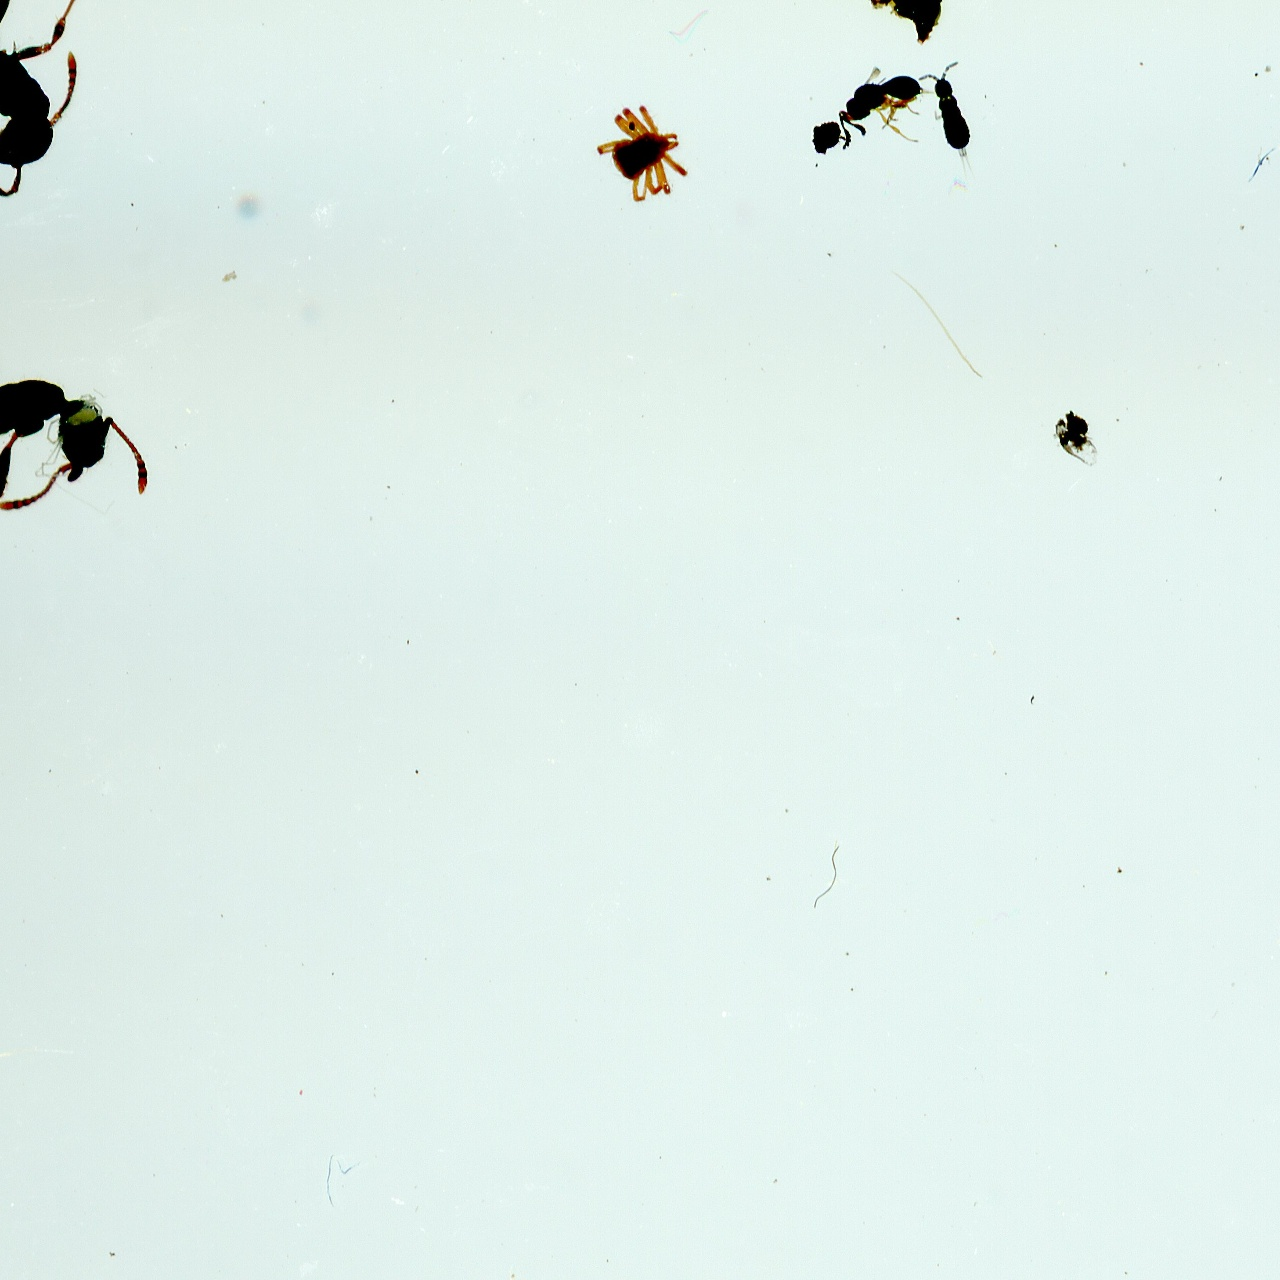arthropod: (0, 302, 156, 531), (0, 0, 94, 203), (813, 46, 954, 176), (584, 90, 706, 215), (914, 56, 1000, 196), (34, 393, 118, 517)
